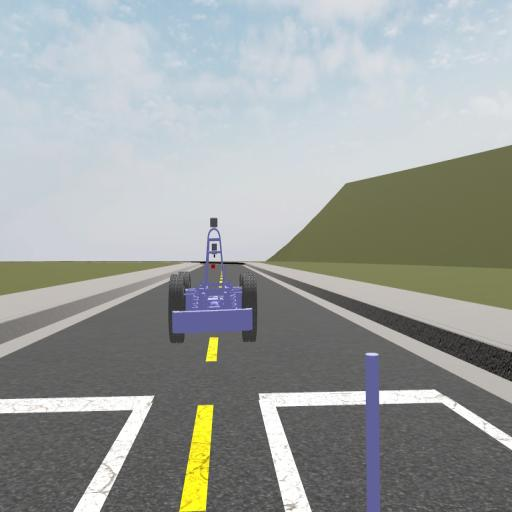ERP-42: (168, 218, 258, 344)
